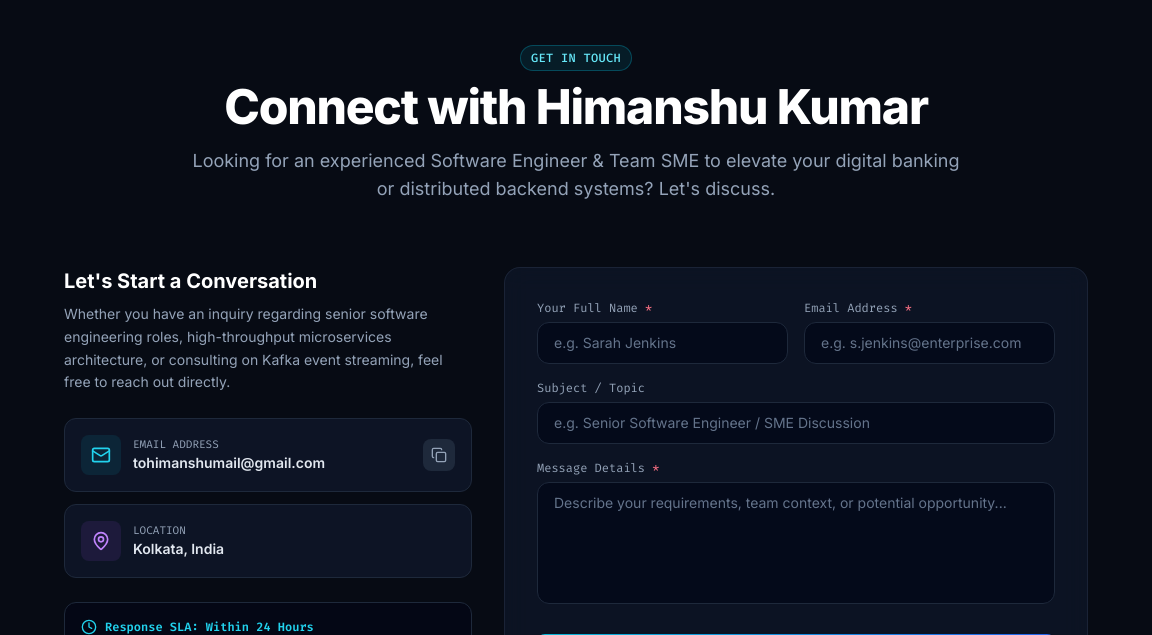
Test case: Contact feature › catches confetti error gracefully if confetti fails
In the field with placeholder "e.g. Sarah Jenkins": (662, 343) x1=537 y1=322 x2=788 y2=364, type "John"
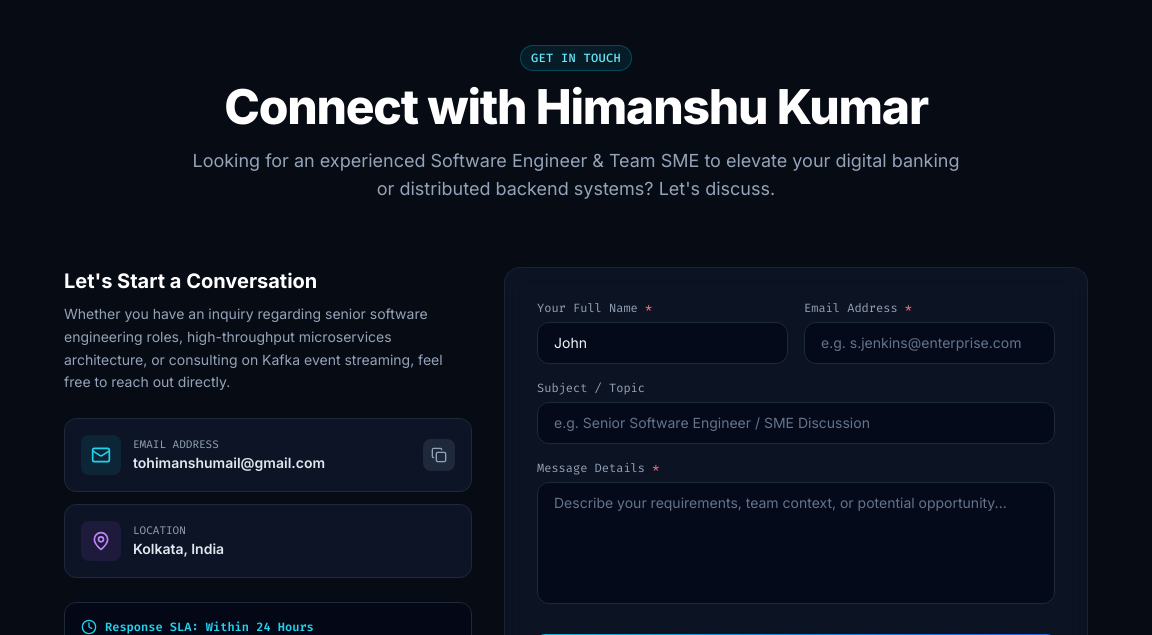
In the field with placeholder "e.g. s.jenkins@enterprise.com": (930, 343) x1=804 y1=322 x2=1055 y2=364, type "john@example.com"
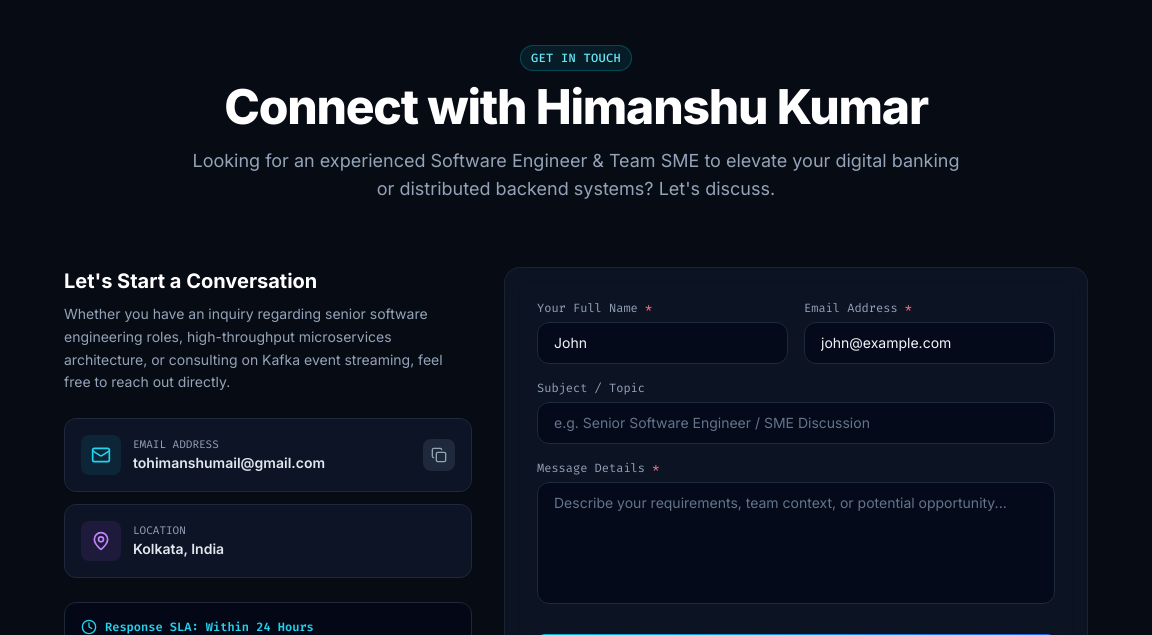
Replace the text in the text box with placeholder "Describe your requirements" with "Hello": (796, 543) x1=537 y1=482 x2=1055 y2=604
(page scrolled)
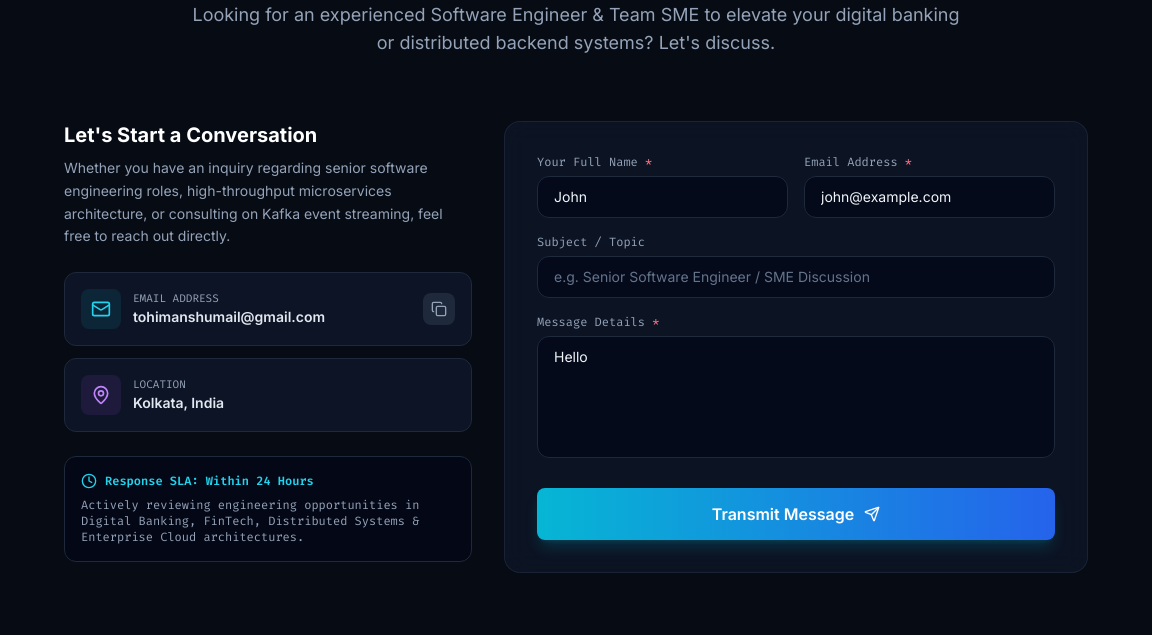
Click the button "Transmit Message": (796, 514) x1=537 y1=488 x2=1055 y2=540
Wait 1000 ms
(page scrolled)
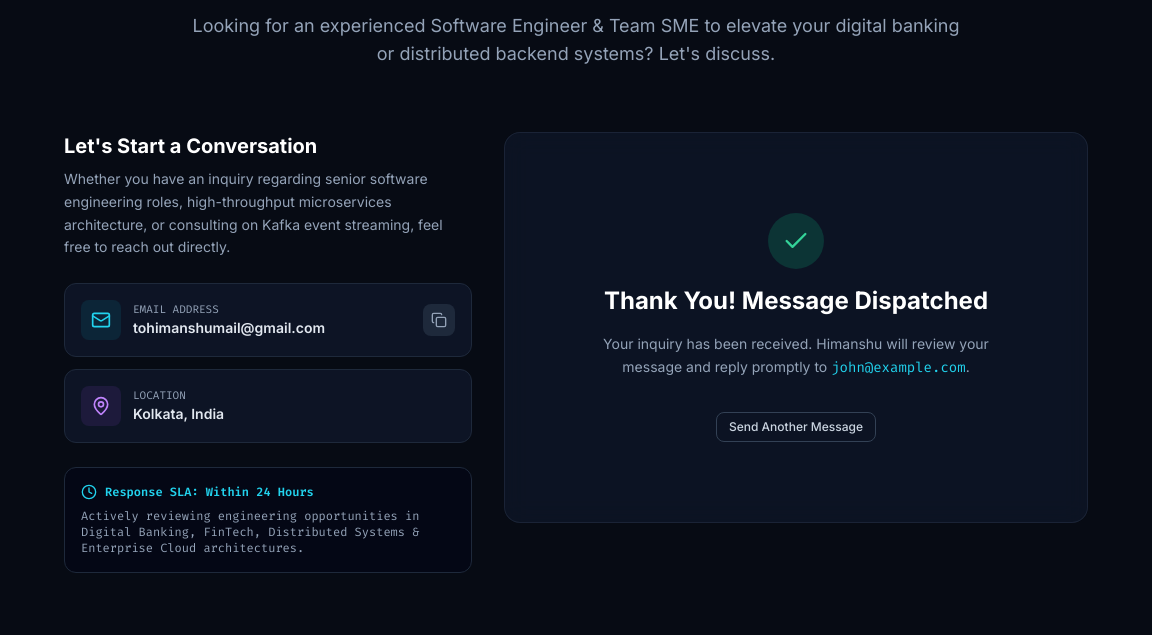
Expected: the heading "Thank You! Message Dispatched" is shown, x1=604 y1=286 x2=988 y2=315
